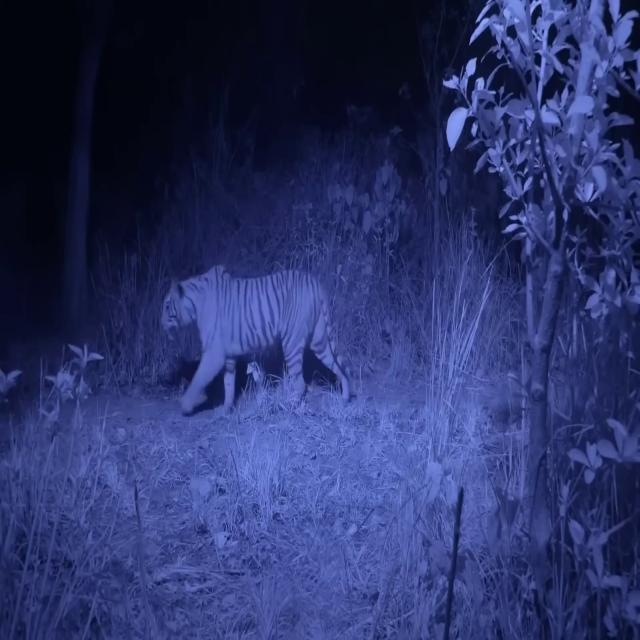tiger: (161, 263, 362, 412)
